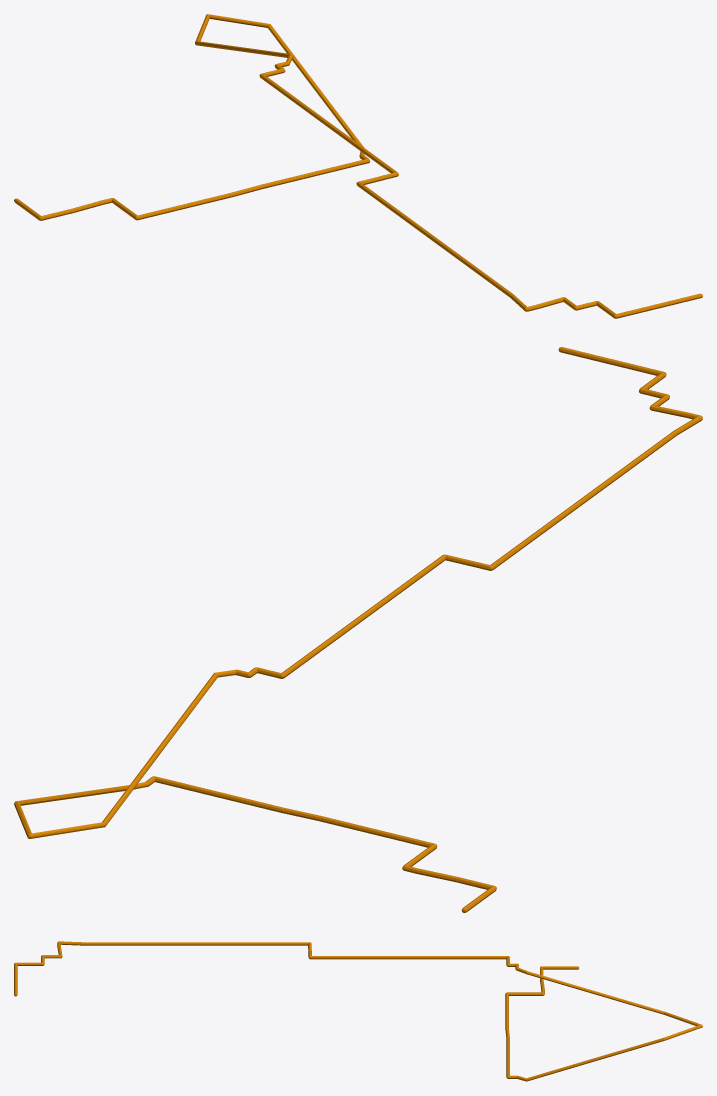
The picture shows the model from 3 angles, top to bottom: view 1: azimuth 30°, elevation 25°; view 2: azimuth 150°, elevation 25°; view 3: azimuth 270°, elevation 25°; orthographic projection. The views are drawn at different scales.
Bounding box in the file's own units: 1492 × 520 × 3829.
